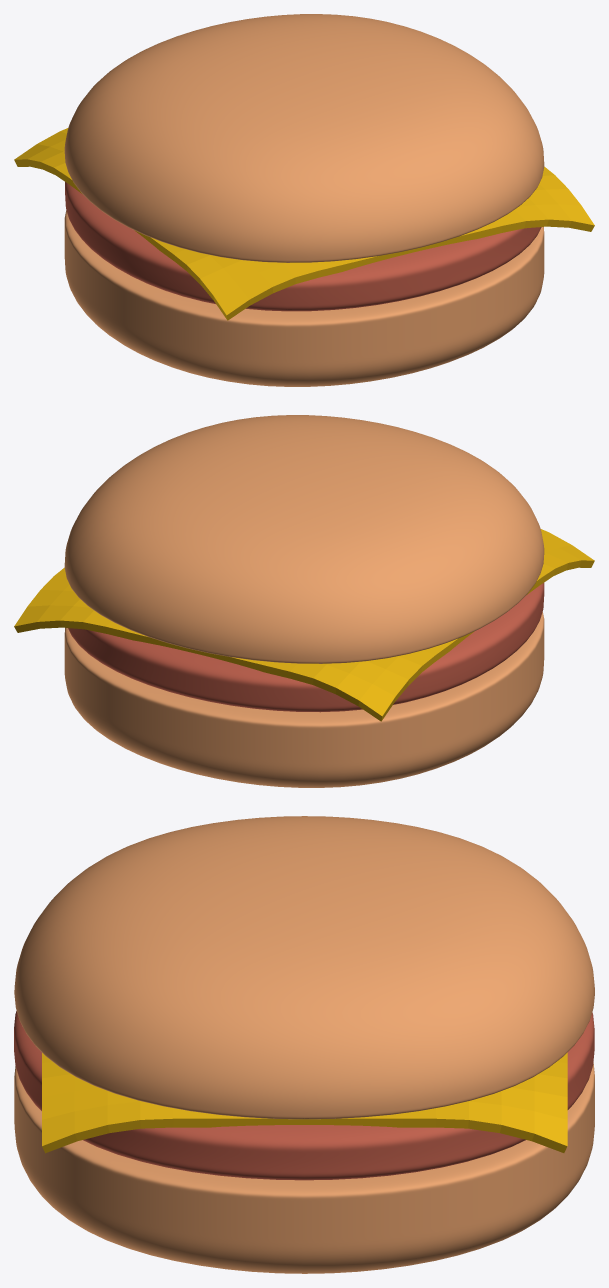
File: Burger.glb
3 views of the same model, one above another, from view 1: azimuth 30°, elevation 25°; view 2: azimuth 150°, elevation 25°; view 3: azimuth 270°, elevation 25° (orthographic). The views are drawn at different scales.
Parts seen in each view (by area): view 1: Cube.002, Cube, Cube.001, Plane; view 2: Cube.002, Cube, Cube.001, Plane; view 3: Cube.002, Cube, Cube.001, Plane.
Part boxes in pixels (x1=…): Cube.002: x1=64, y1=14, x2=544, y2=262; Cube: x1=64, y1=210, x2=544, y2=386; Cube.001: x1=65, y1=182, x2=541, y2=311; Plane: x1=14, y1=128, x2=594, y2=320; Cube.002: x1=64, y1=415, x2=544, y2=663; Cube: x1=64, y1=612, x2=544, y2=787; Cube.001: x1=68, y1=583, x2=544, y2=712; Plane: x1=14, y1=529, x2=594, y2=721; Cube.002: x1=14, y1=816, x2=594, y2=1119; Cube: x1=14, y1=1062, x2=594, y2=1273; Cube.001: x1=14, y1=1011, x2=594, y2=1180; Plane: x1=42, y1=1052, x2=567, y2=1153.
Bounding box in the file's own units: 11.01 × 6.44 × 11.01.
